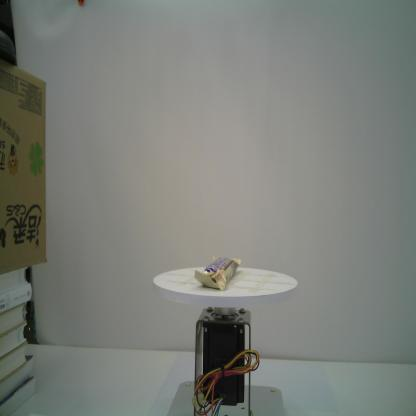Chocolate: (194, 255, 242, 291)
